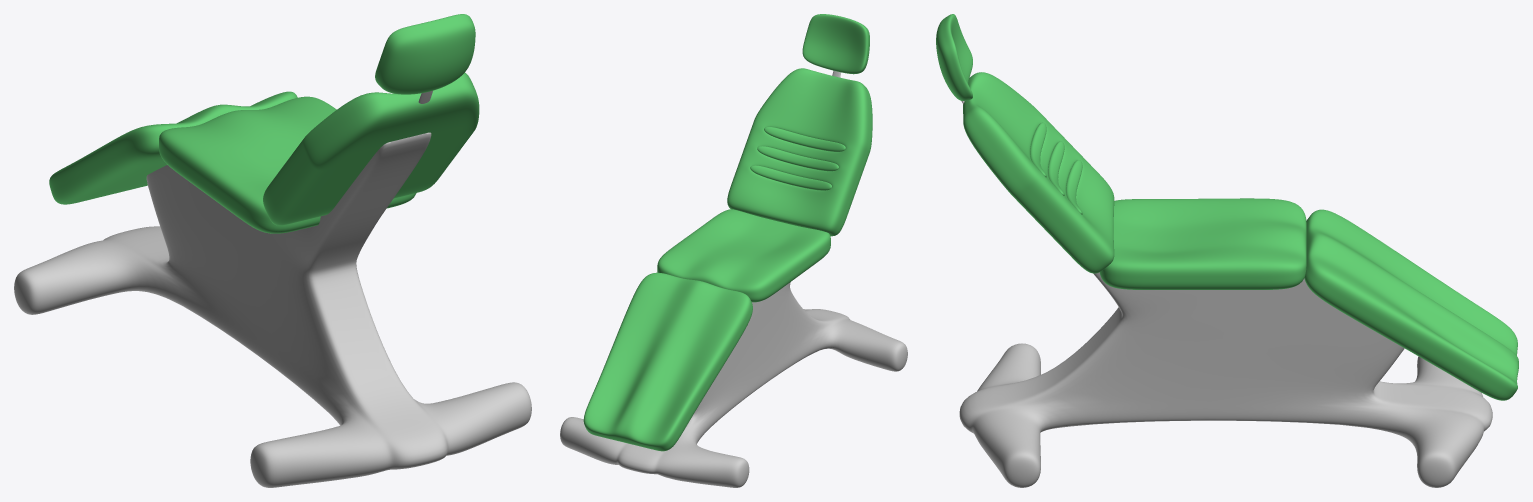
File: docchair.fbx
3 renders of one model, left to right at view 1: azimuth 30°, elevation 25°; view 2: azimuth 150°, elevation 25°; view 3: azimuth 270°, elevation 25°, orthographic. The views are drawn at different scales.
Parts seen in each view (by area): view 1: Cube_3; view 2: Cube_3; view 3: Cube_3.
Boxes of the visible parts, bbox=[...] form: Cube_3: bbox=[14, 14, 531, 487]; Cube_3: bbox=[560, 14, 907, 487]; Cube_3: bbox=[936, 14, 1518, 487].
Bounding box in the file's own units: 74.07 × 122 × 158.
